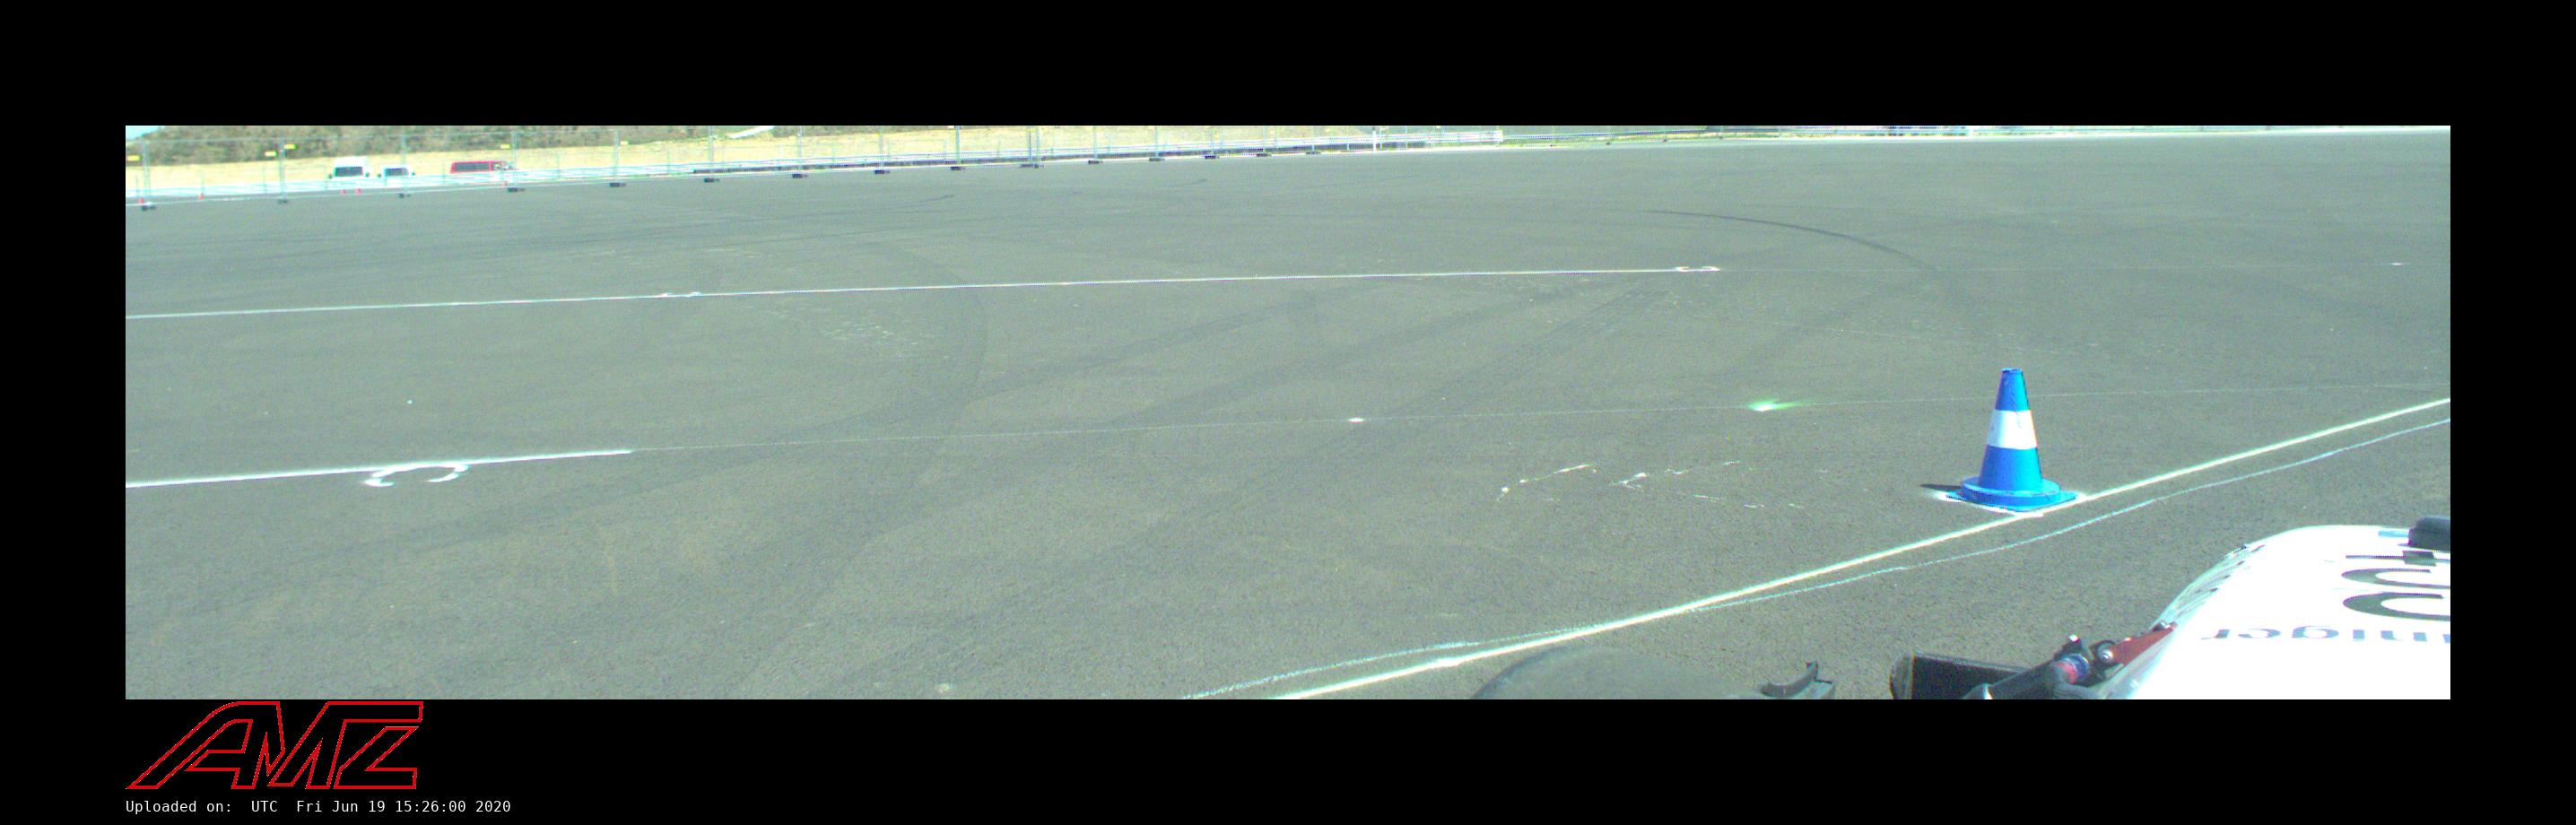blue_cone: (1947, 368, 2077, 511)
